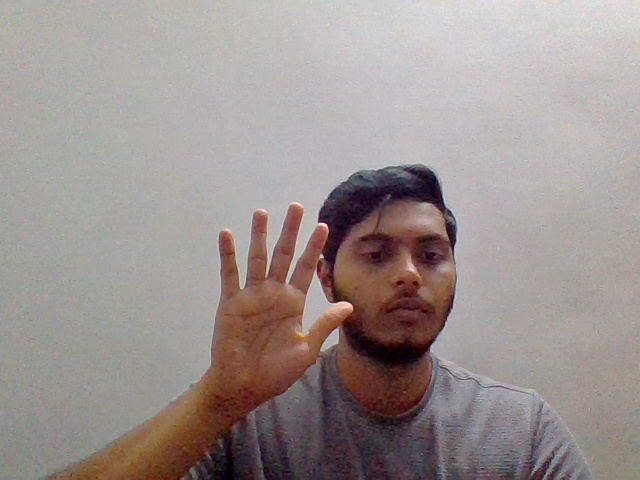Hello: (201, 195, 357, 413)
